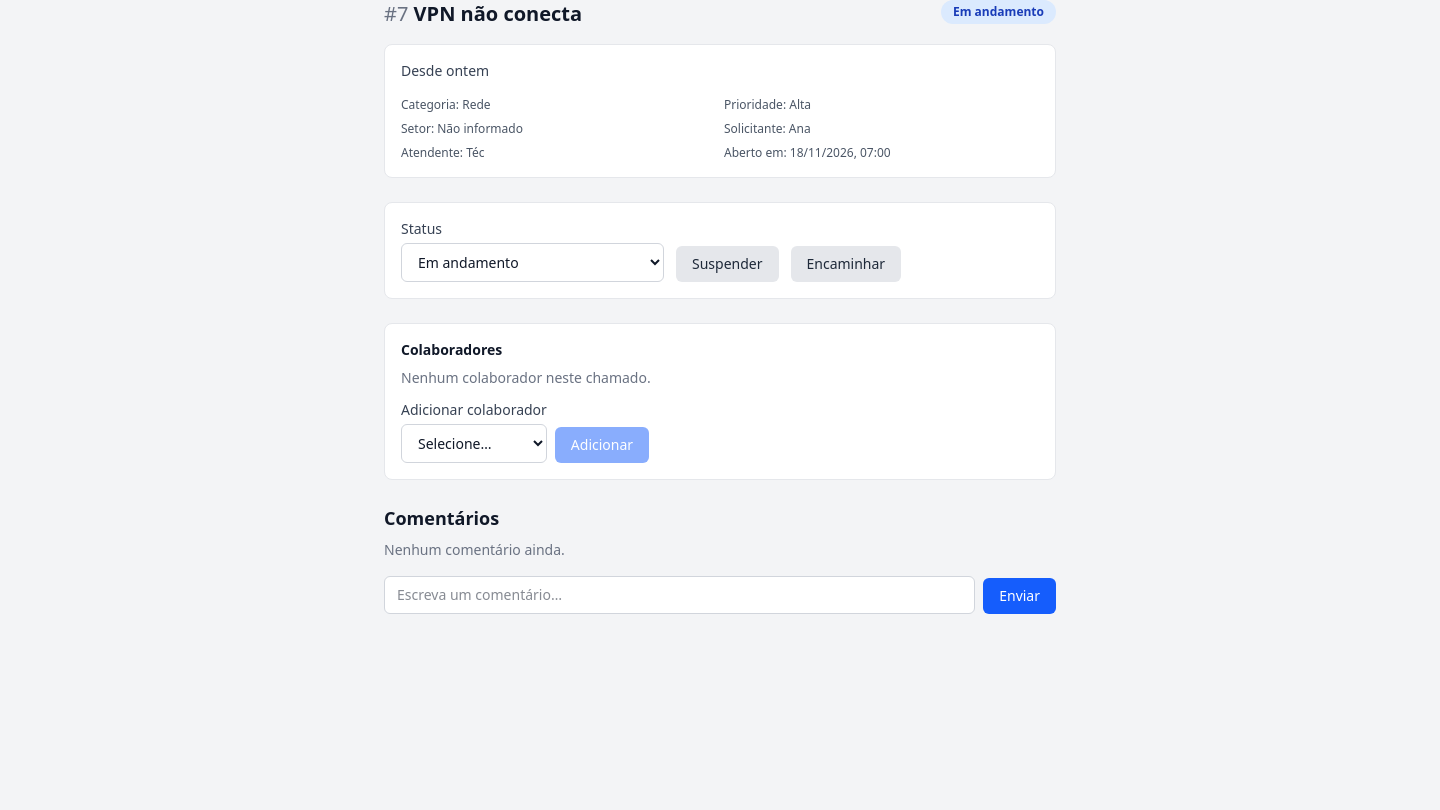
Test: TicketDetalhe: encaminhar › Cancelar fecha o modal sem encaminhar
Click the button "Encaminhar".
click(846, 264)  # box [790,246,901,282]
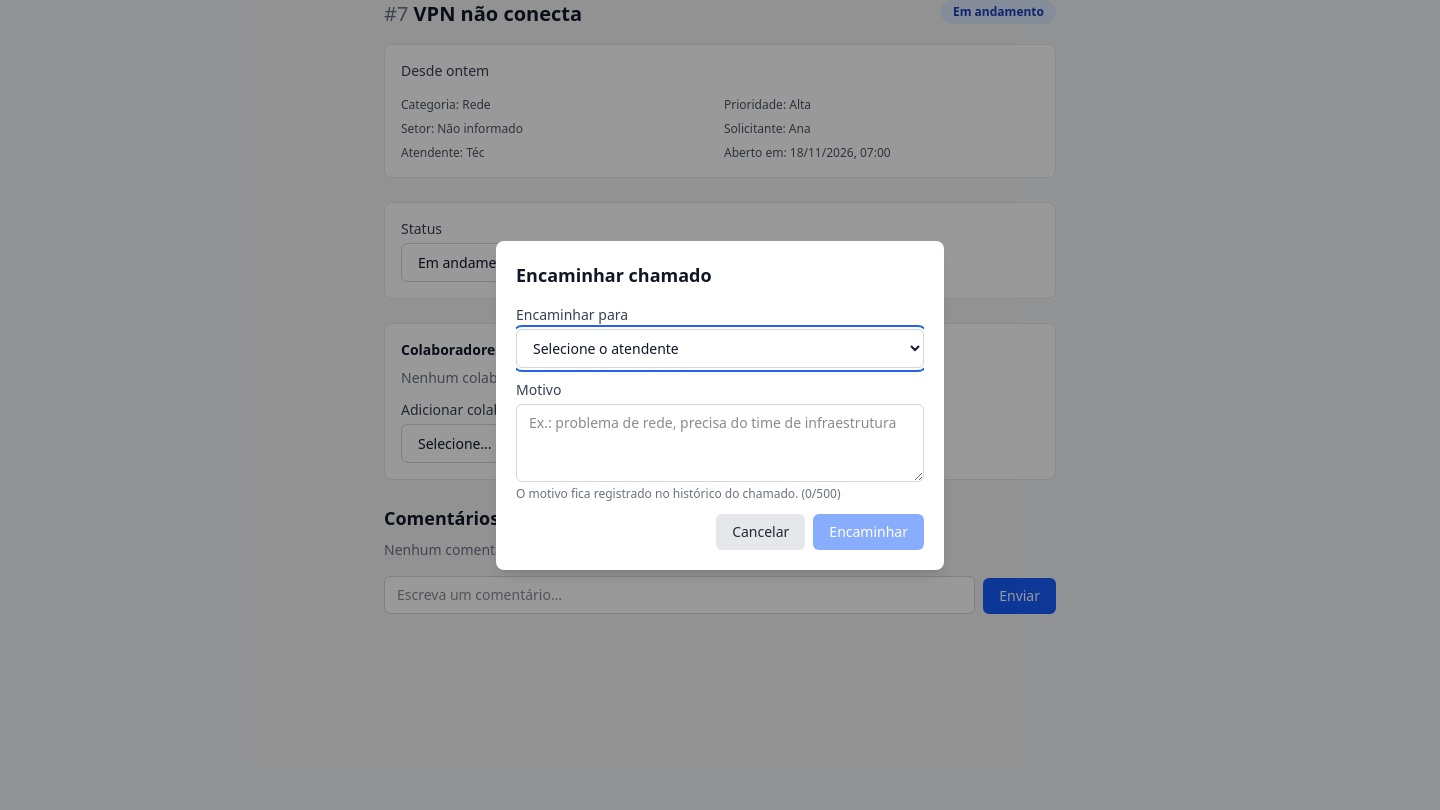
Click the button "Cancelar".
click(761, 532)  # box [716,514,805,550]
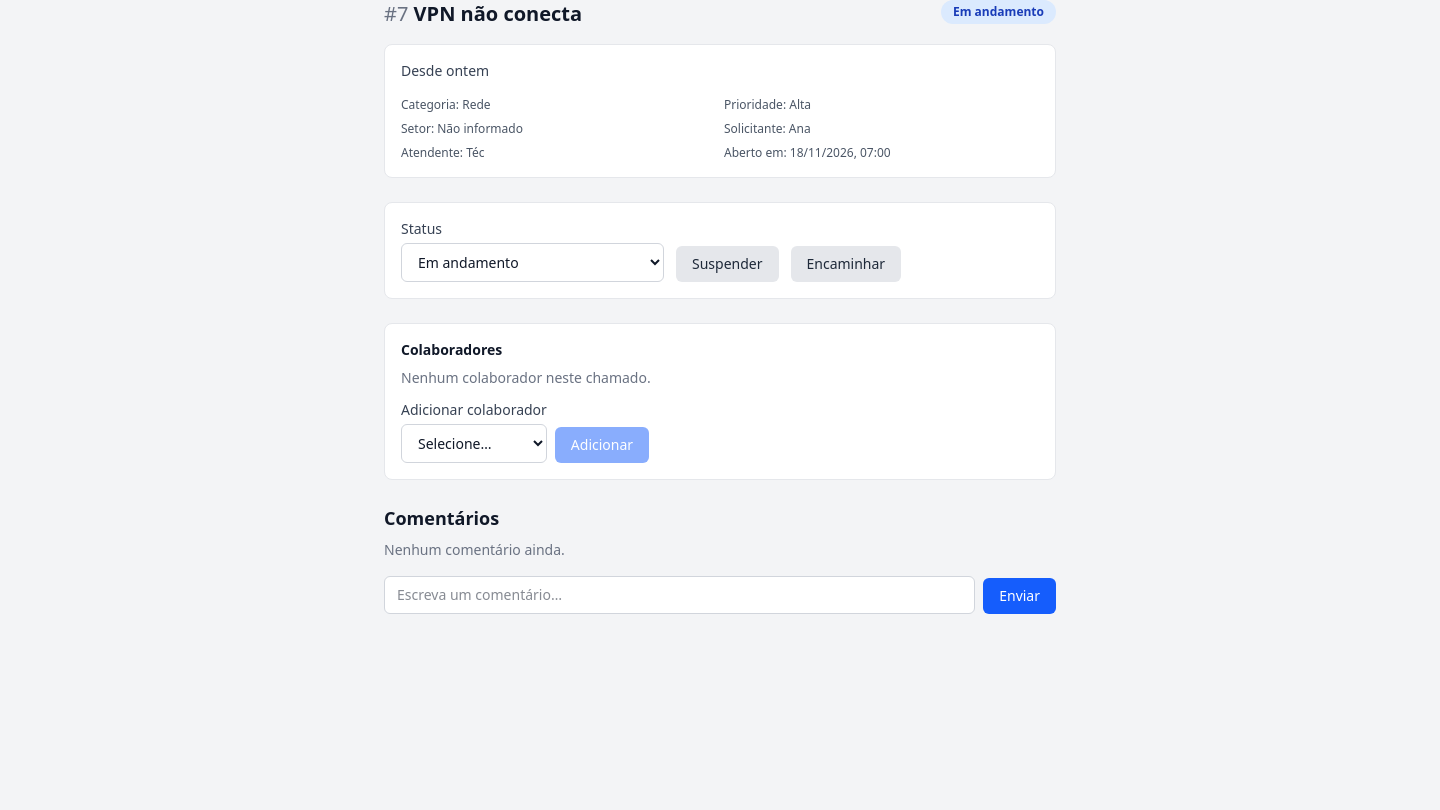
Expected: the dialog is gone
